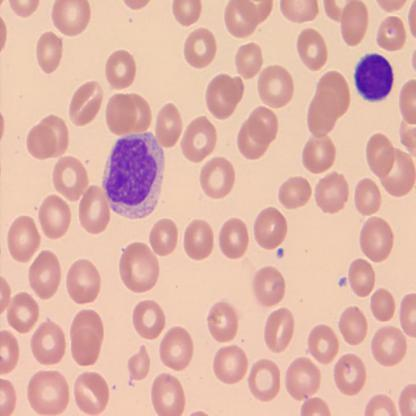Metamyelocyte: (99, 127, 169, 222)
